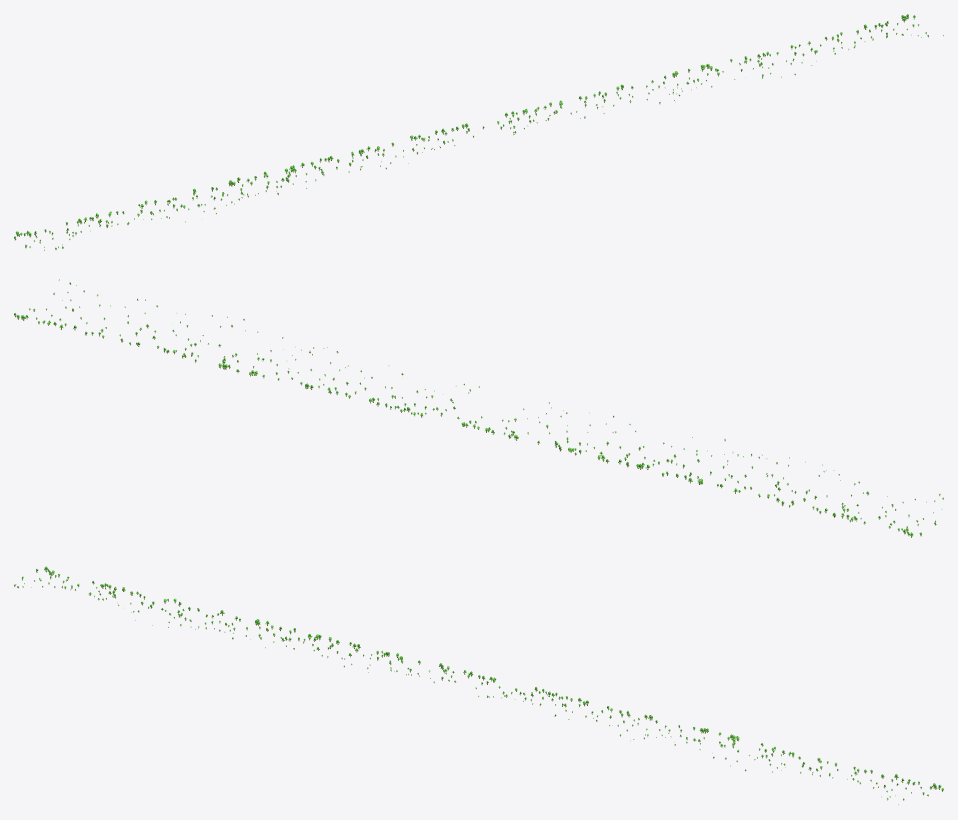
Rendered from MountenTree.obj.
3 renders of one model, top to bottom at view 1: azimuth 30°, elevation 25°; view 2: azimuth 150°, elevation 25°; view 3: azimuth 330°, elevation 25°, orthographic.
Visible parts, largest first — view 1: ICO球.458; view 2: ICO球.458; view 3: ICO球.458.
Boxes of the visible parts, x1,y1,x2,y2 form: ICO球.458: (14, 14, 943, 250); ICO球.458: (14, 279, 943, 537); ICO球.458: (14, 566, 943, 804).
Size of the model in its own units: 7982 by 151 by 649.
Materials: 1 (1 with a texture image).
